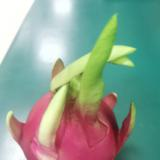pitaya: (20, 56, 131, 160)
